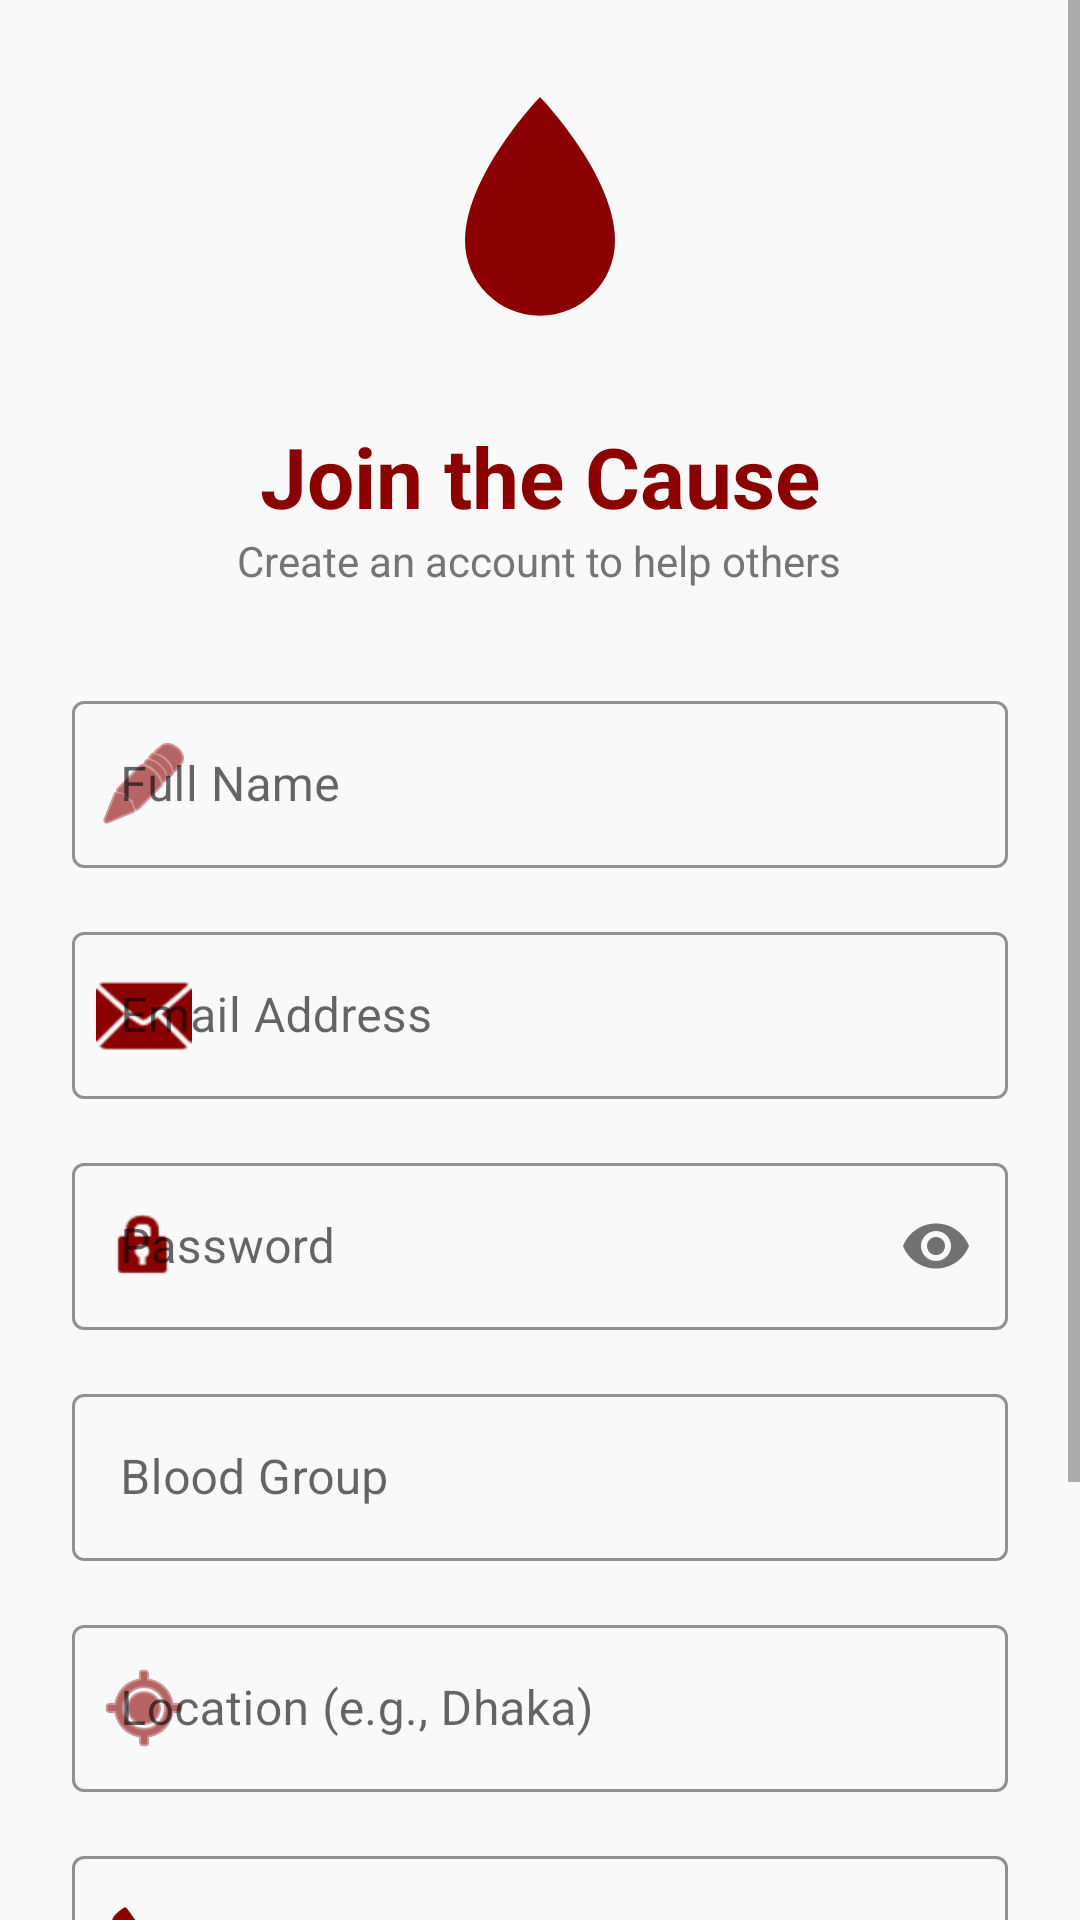

Screen size 1080x1920. Icon name, then its center in pixels as (x=x, y=y):
blood drop: (x=540, y=206)
